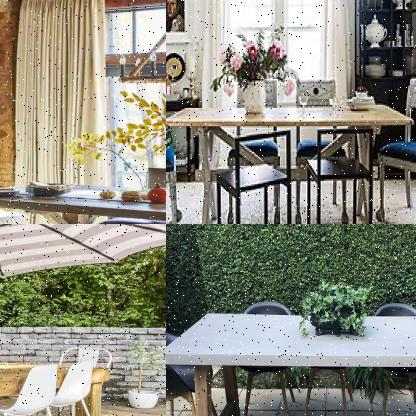table: (166, 102, 416, 223), (166, 306, 415, 415), (0, 172, 165, 223), (0, 358, 115, 415)
